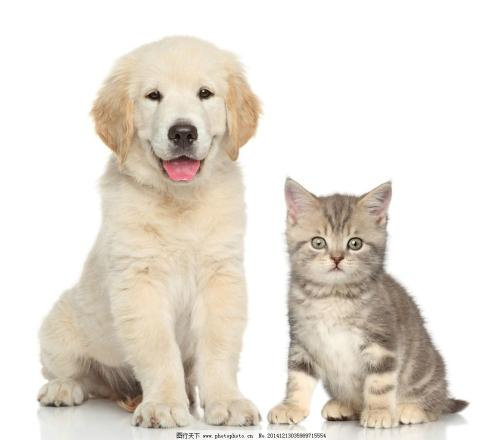cat: (278, 174, 466, 430)
dog: (38, 37, 270, 428)
